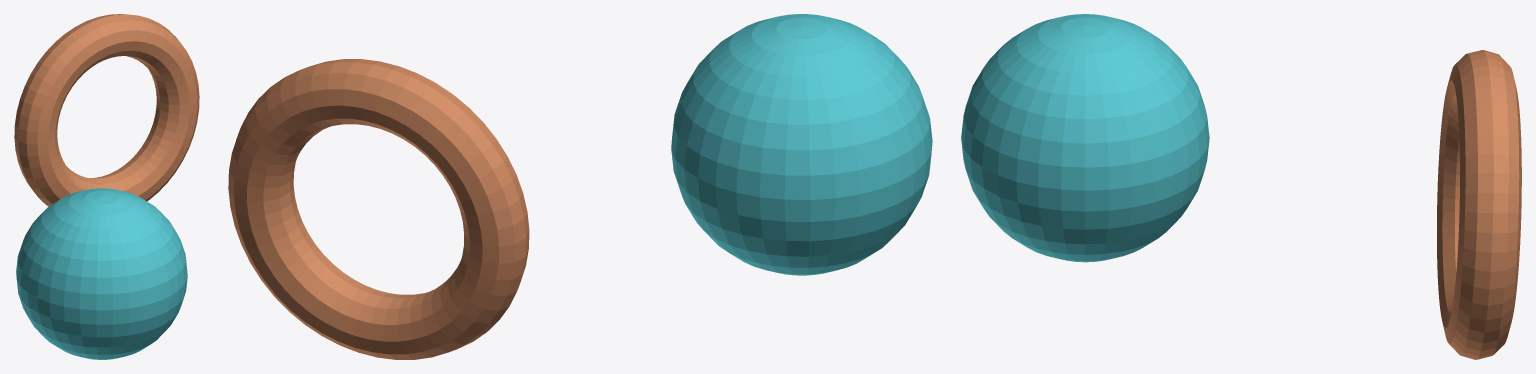
Rendered from area_light.dae.
3 views of the same model, side by side, from view 1: azimuth 30°, elevation 25°; view 2: azimuth 150°, elevation 25°; view 3: azimuth 270°, elevation 25° (orthographic). The views are drawn at different scales.
Parts seen in each view (by area): view 1: Sphere, Torus; view 2: Sphere, Torus; view 3: Sphere, Torus.
Boxes of the visible parts, x1,y1,x2,y2 form: Sphere: (16, 188, 187, 359); Torus: (14, 14, 199, 206); Sphere: (671, 14, 932, 275); Torus: (228, 59, 529, 359); Sphere: (961, 14, 1209, 262); Torus: (1437, 50, 1521, 359).
Size of what is drawn, in the model's own units: 4.15 by 4.51 by 2.54.
